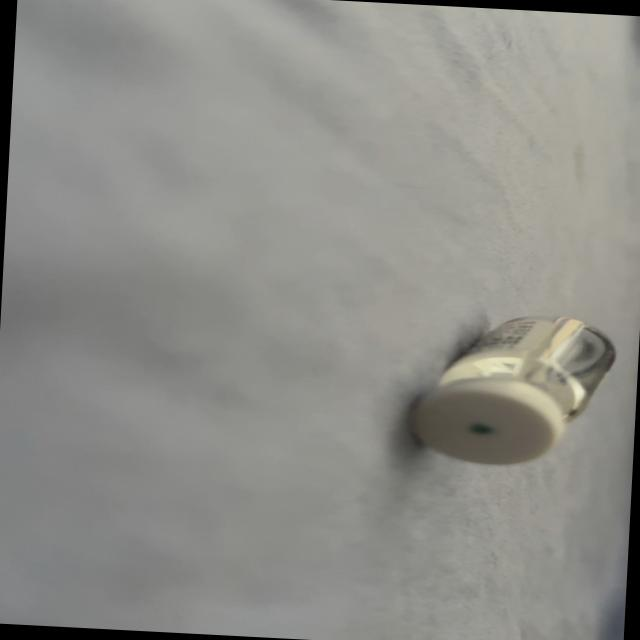fentanl_citrat: (410, 312, 613, 469)
